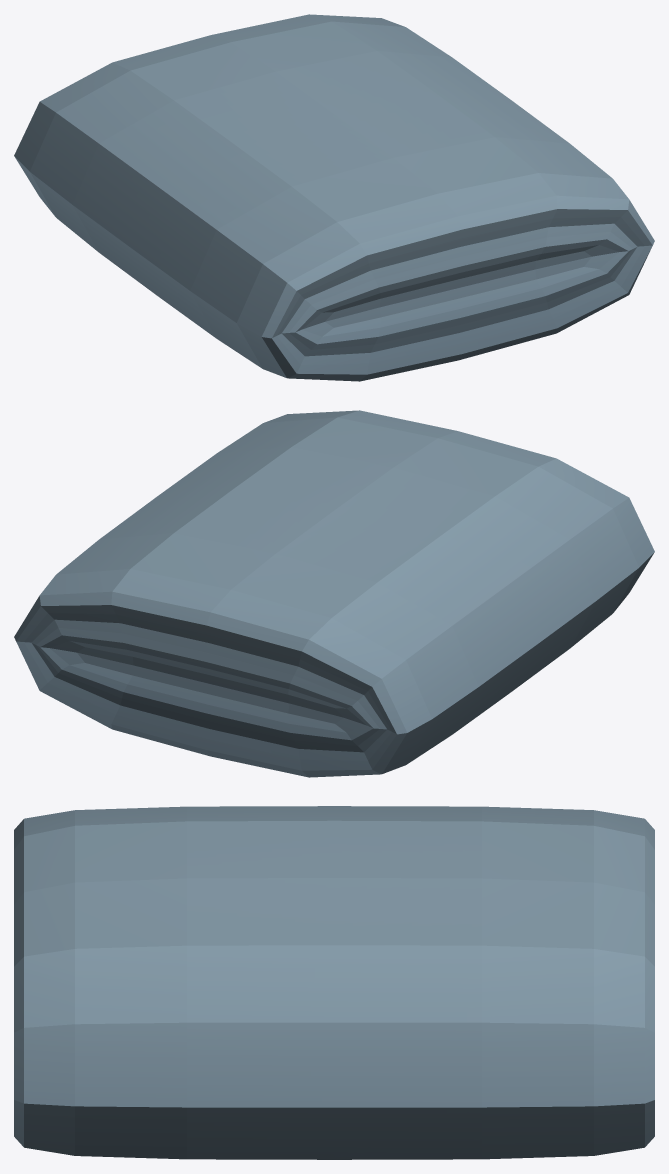
File: Clothes1_C6.fbx
3 views of the same model, one above another, from view 1: azimuth 30°, elevation 25°; view 2: azimuth 150°, elevation 25°; view 3: azimuth 270°, elevation 25° (orthographic). The views are drawn at different scales.
Visible parts, largest first — view 1: Clothes1_C6; view 2: Clothes1_C6; view 3: Clothes1_C6.
Boxes of the visible parts, <box> form: Clothes1_C6: <box>14,14,654,381</box>; Clothes1_C6: <box>14,410,654,777</box>; Clothes1_C6: <box>14,806,654,1159</box>.
Bounding box in the file's own units: 21.86 × 8.52 × 23.8.
